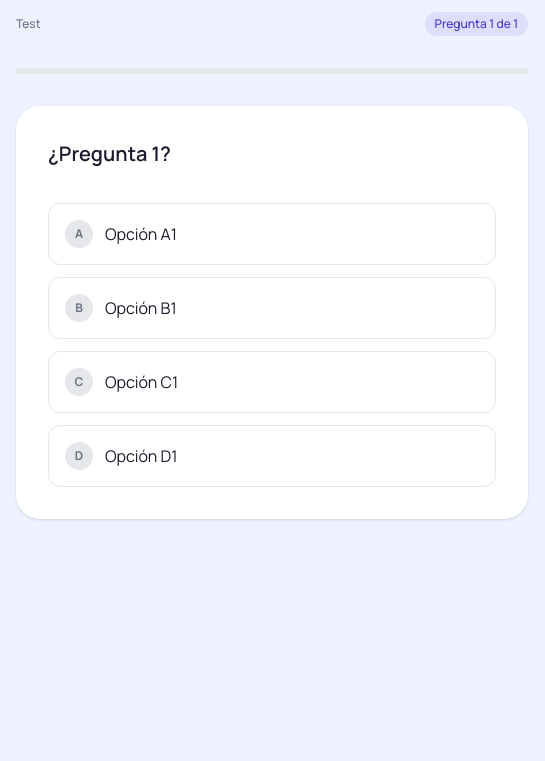
Test: TestRunner › con explicacionGeneradaIA muestra el aviso discreto de contenido generado
Click the button with test id "opcion-a" at (141, 234), box [48, 202, 496, 264]
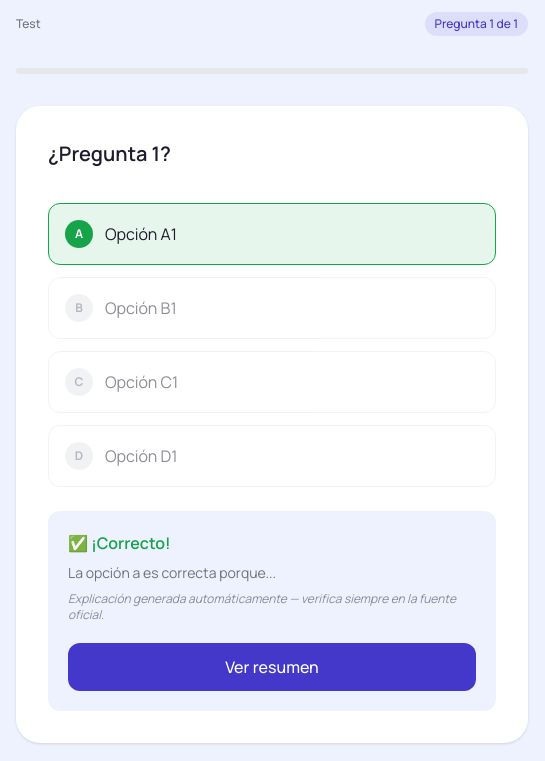
Expected: the text "Explicación generada automáticamente" is shown, [68, 590, 456, 622]
